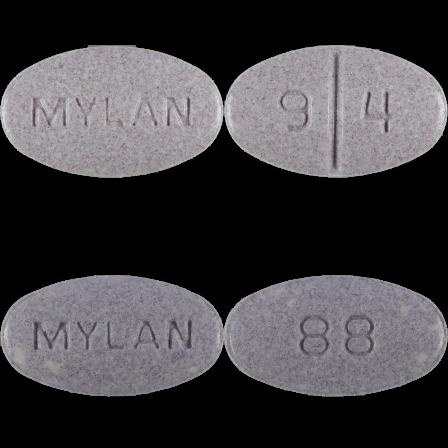0615-4568: (0, 0, 224, 224)
